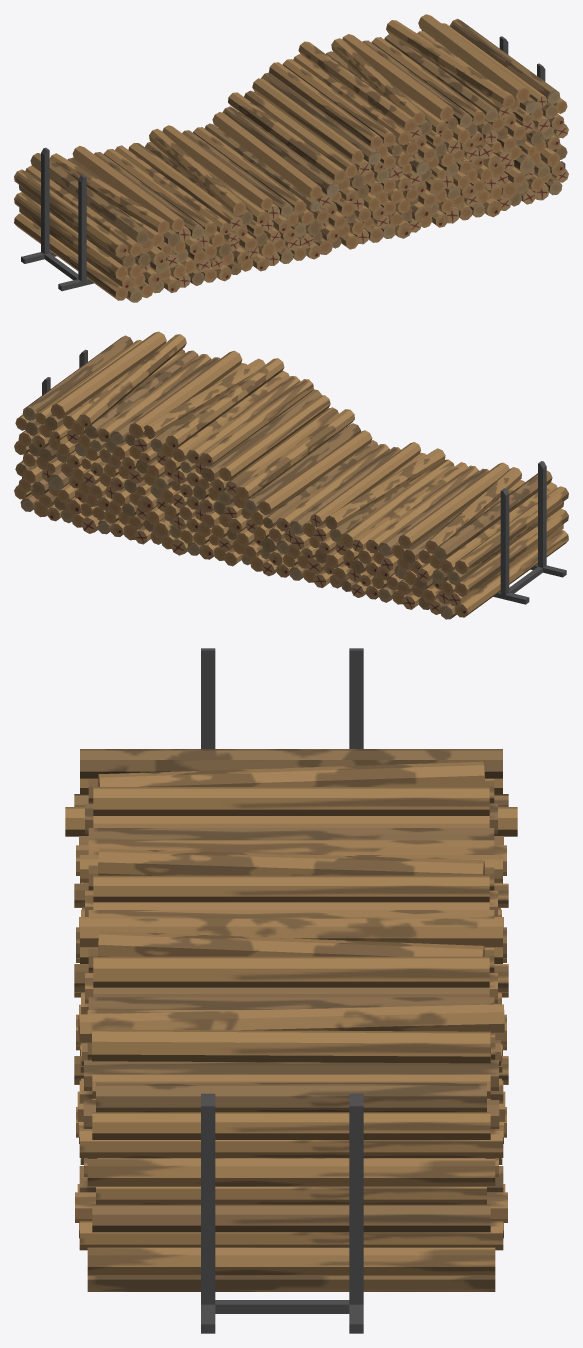
The model's file is SM_Prop_LogPile_Preset_Large_02.fbx.
3 views of the same model, one above another, from view 1: azimuth 30°, elevation 25°; view 2: azimuth 150°, elevation 25°; view 3: azimuth 270°, elevation 25° (orthographic). The views are drawn at different scales.
Visible parts, largest first — view 1: SM_Prop_LogPile_Preset_Large_02; view 2: SM_Prop_LogPile_Preset_Large_02; view 3: SM_Prop_LogPile_Preset_Large_02.
Part boxes in pixels (<box>): SM_Prop_LogPile_Preset_Large_02: <box>14,14,568,302</box>; SM_Prop_LogPile_Preset_Large_02: <box>14,331,568,619</box>; SM_Prop_LogPile_Preset_Large_02: <box>65,648,517,1333</box>.
Size of the model in its own units: 2724 by 615 by 1059.
